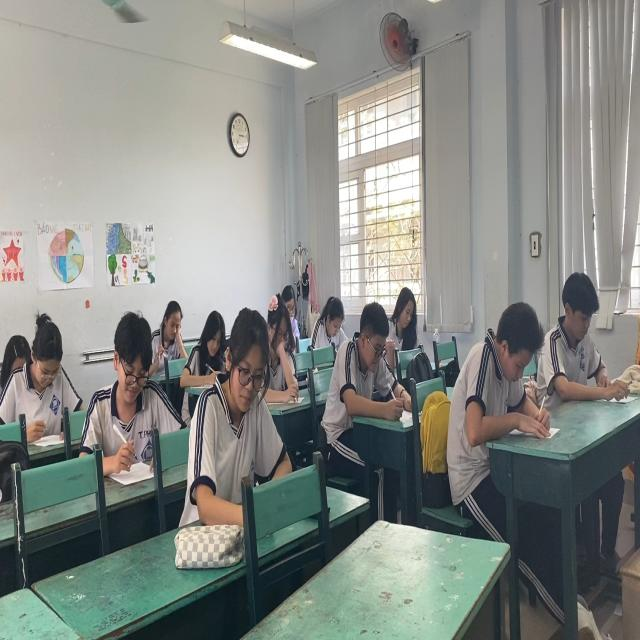not_cheating: (221, 303, 276, 493), (462, 307, 531, 445), (108, 310, 161, 449), (548, 273, 602, 396), (346, 313, 402, 424), (28, 317, 68, 428), (268, 293, 299, 403), (192, 313, 231, 379), (155, 299, 190, 362), (388, 282, 421, 348), (311, 296, 347, 345)
